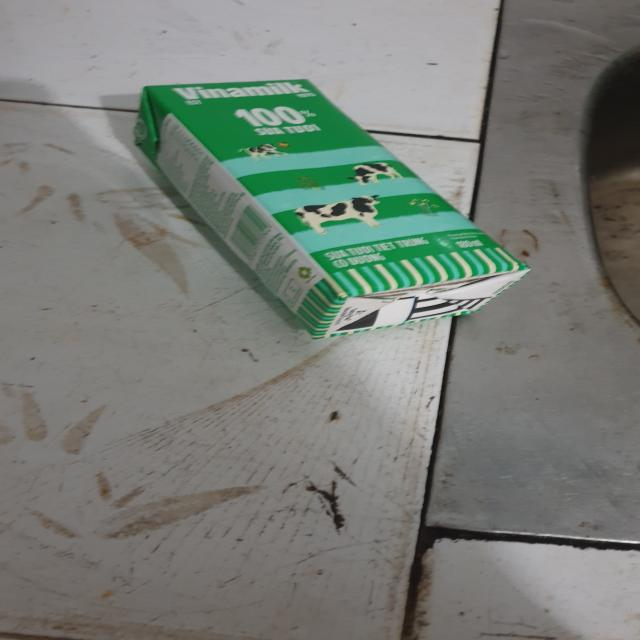Vina: (131, 84, 529, 341)
